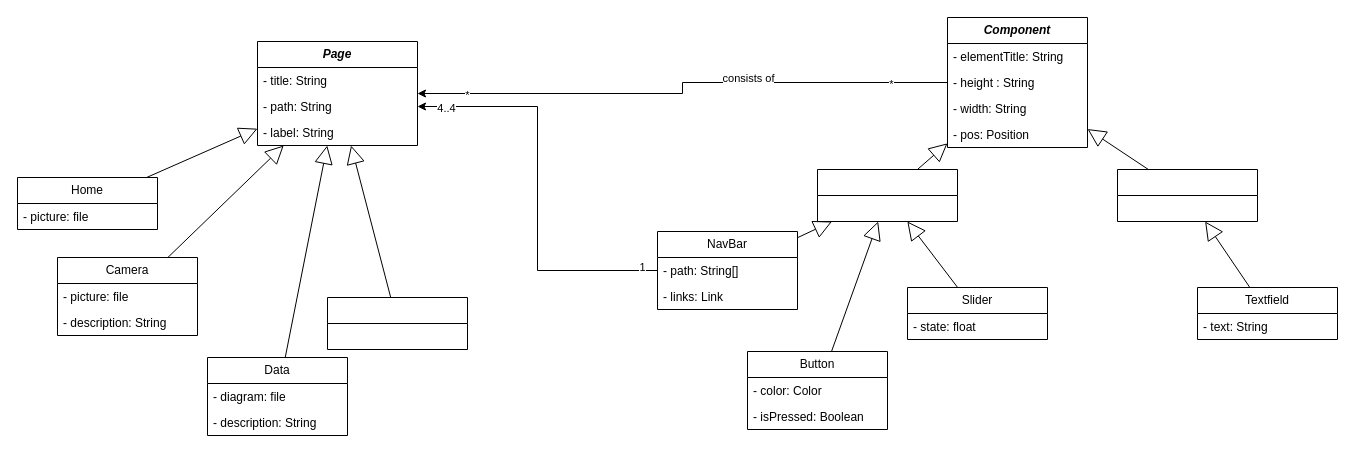
The diagram is 1355 pixels wide and 456 high, and some of its shapes have lost their labels. Each missing label, with the centre of its shape:
"Input" belongs at (887,195).
"Output" belongs at (1187,195).
"Regulation" belongs at (397,323).
